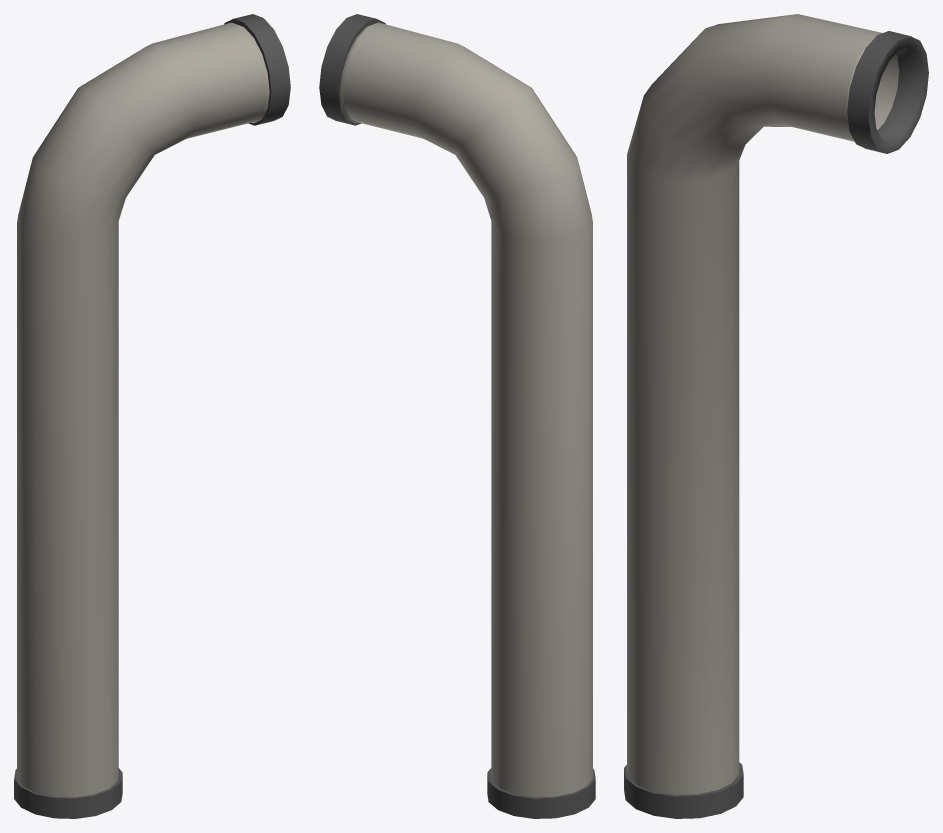
File: pipe_main_curved.fbx
3 renders of one model, left to right at view 1: azimuth 30°, elevation 25°; view 2: azimuth 150°, elevation 25°; view 3: azimuth 330°, elevation 25°, orthographic. The views are drawn at different scales.
Parts seen in each view (by area): view 1: pipe_main_curved; view 2: pipe_main_curved; view 3: pipe_main_curved.
Boxes of the visible parts, bbox=[...] form: pipe_main_curved: bbox=[14, 14, 290, 818]; pipe_main_curved: bbox=[319, 14, 595, 818]; pipe_main_curved: bbox=[624, 14, 928, 818].
Size of the model in its own units: 119 by 342 by 46.48.
